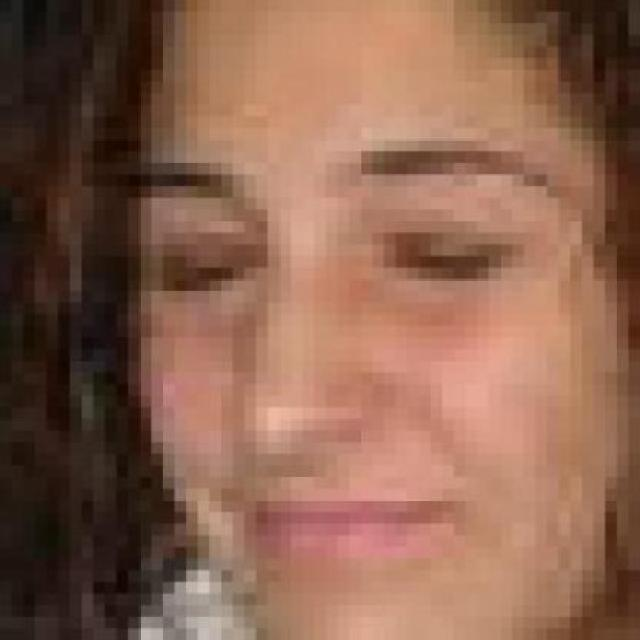drowsy: (394, 232, 498, 290), (160, 238, 254, 300)
